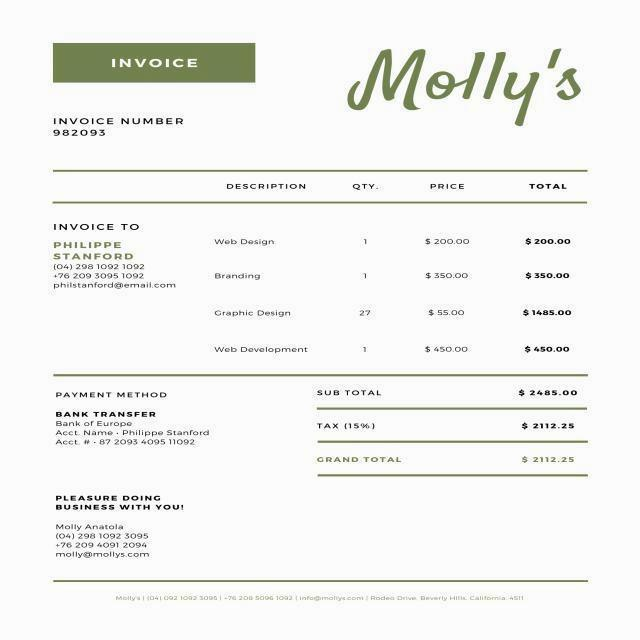paragraph: (300, 380, 596, 486), (336, 41, 607, 142), (39, 484, 209, 568), (91, 586, 560, 616), (51, 386, 220, 468), (54, 36, 260, 82), (39, 104, 194, 150)
table: (29, 171, 605, 364)
